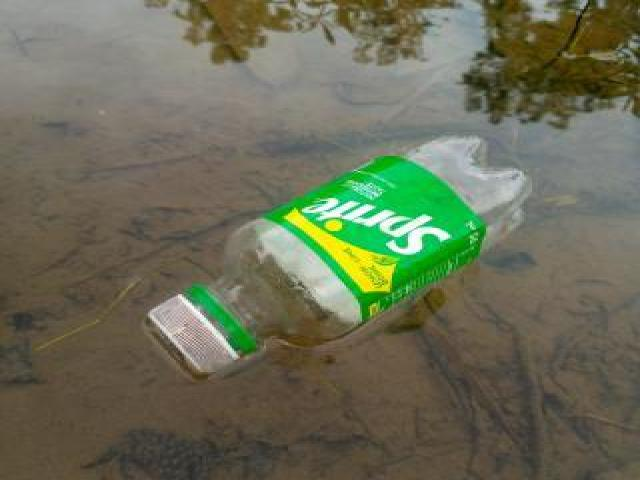Bottle: (134, 125, 536, 382)
